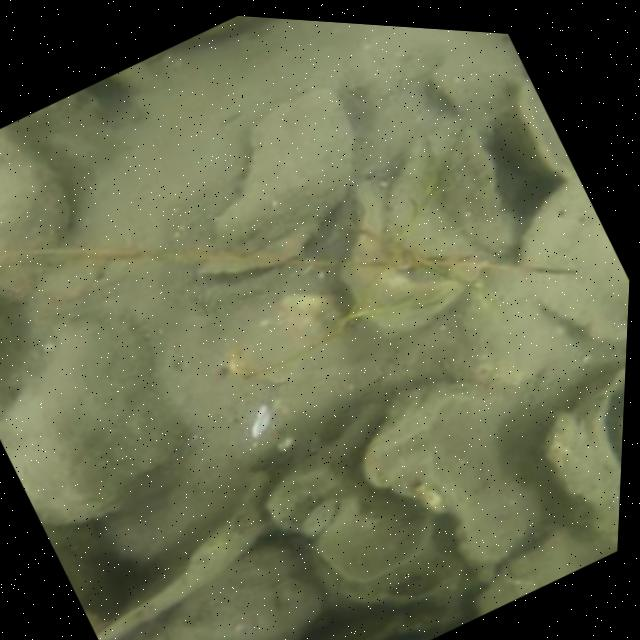Oyster-Indeterminate: (0, 315, 188, 529), (360, 376, 544, 577), (197, 81, 358, 274), (171, 538, 330, 640), (0, 126, 76, 301)
